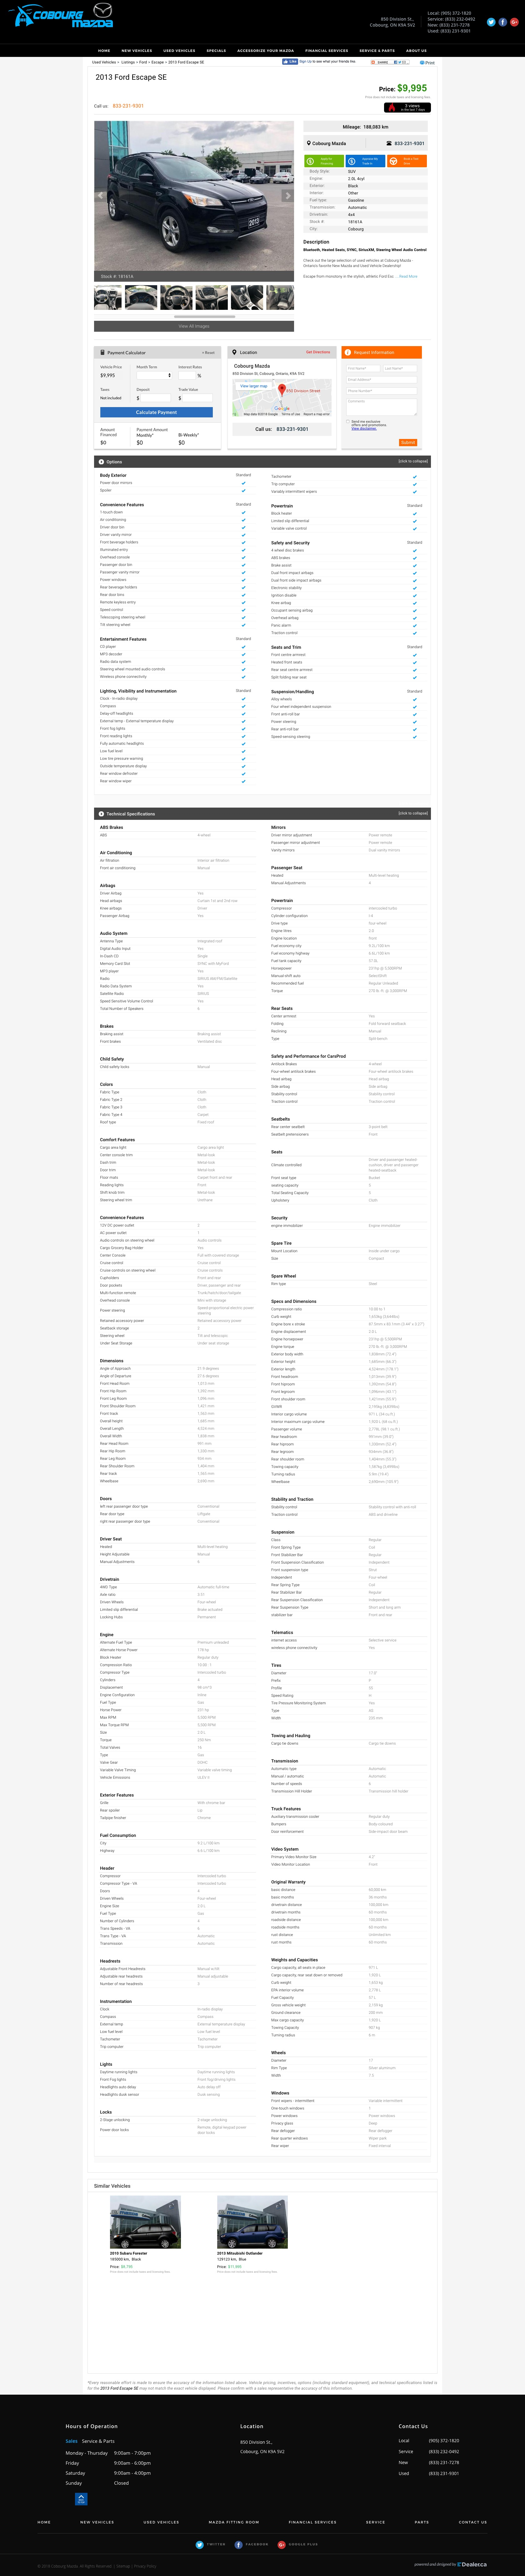car: (281, 189, 295, 204)
